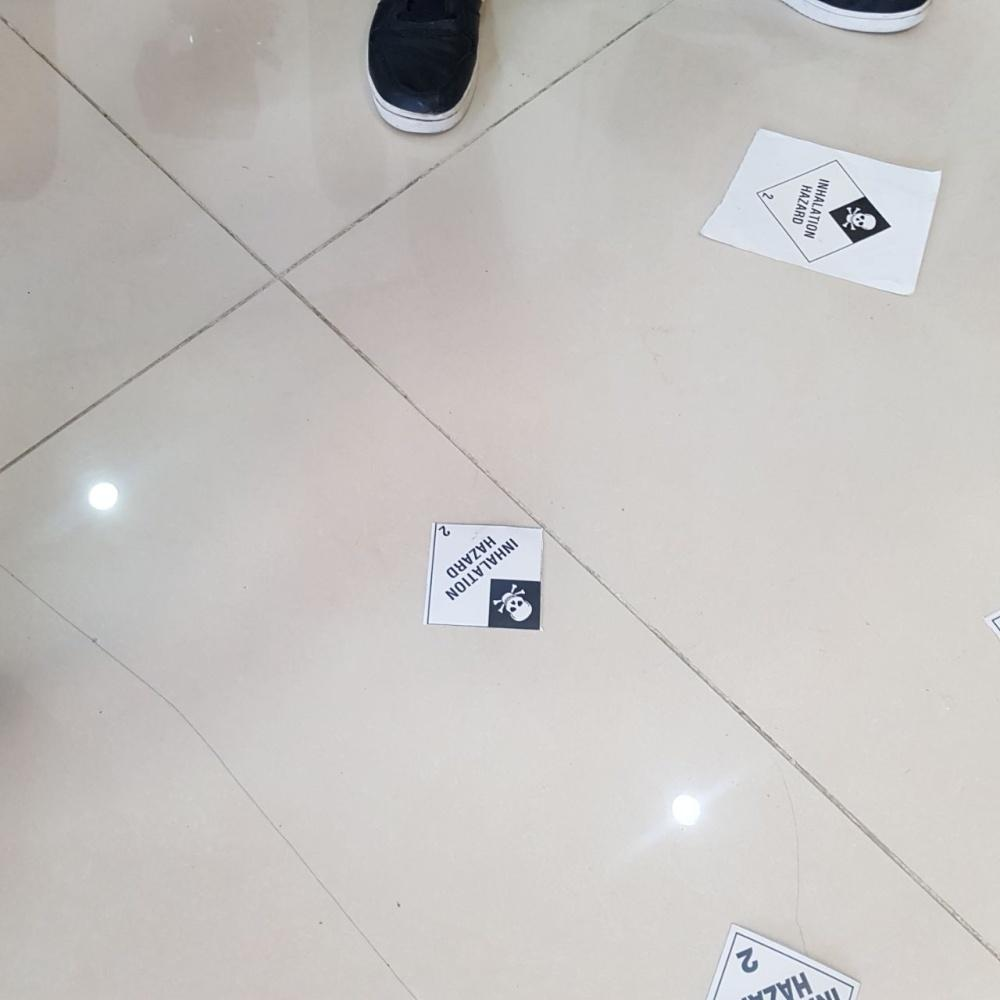poison: (752, 159, 895, 263), (428, 521, 544, 628)
